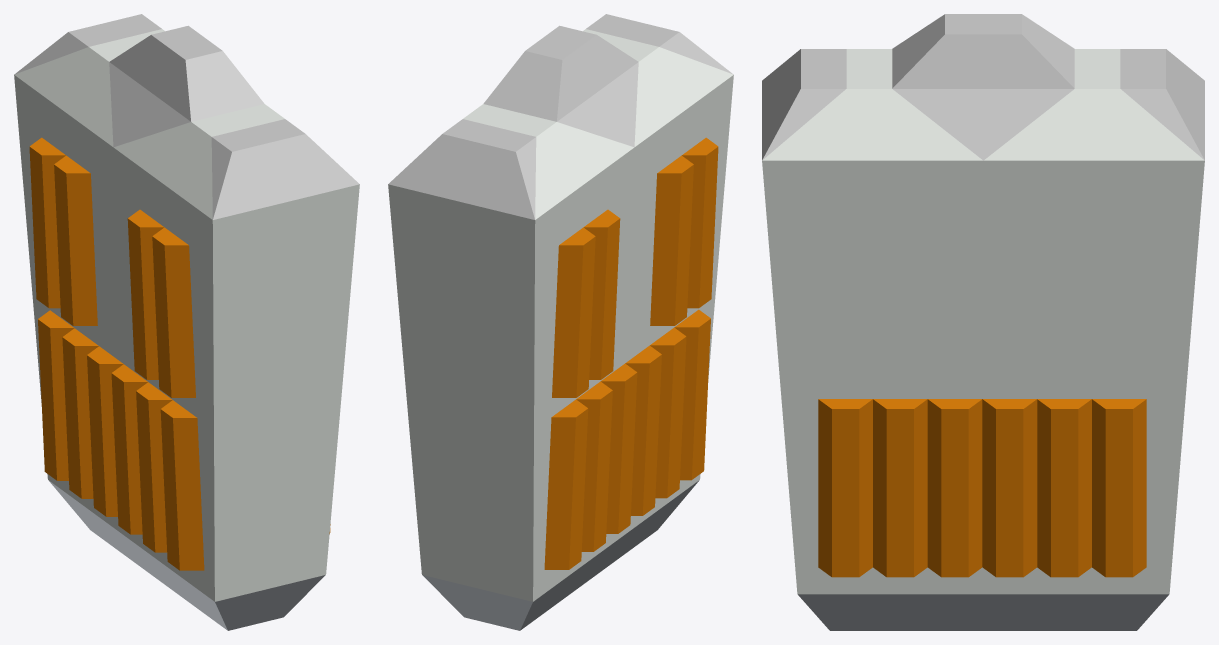
The model's file is BoomerMutant-Torso.fbx.
3 renders of one model, left to right at view 1: azimuth 30°, elevation 25°; view 2: azimuth 150°, elevation 25°; view 3: azimuth 270°, elevation 25°, orthographic. The views are drawn at different scales.
Parts seen in each view (by area): view 1: BoomerTorso; view 2: BoomerTorso; view 3: BoomerTorso.
Boxes of the visible parts, box(x1,y1,x2,y2) form: BoomerTorso: box(14, 14, 359, 630); BoomerTorso: box(388, 14, 733, 630); BoomerTorso: box(762, 14, 1204, 630).
Bounding box in the file's own units: 0.2427 × 0.7157 × 0.4856.
